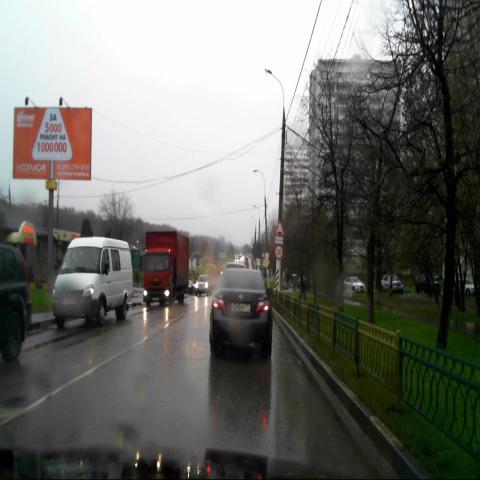1_17: (275, 221, 284, 235)
3_24: (276, 245, 283, 259)
